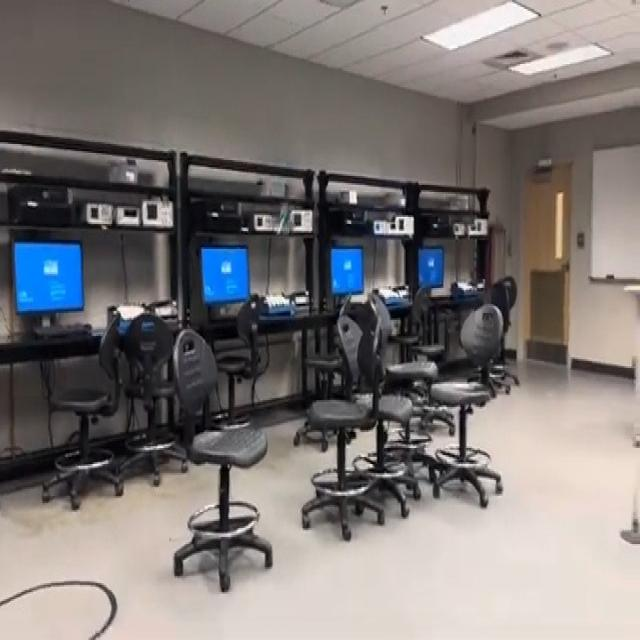drone: (267, 190, 298, 252)
